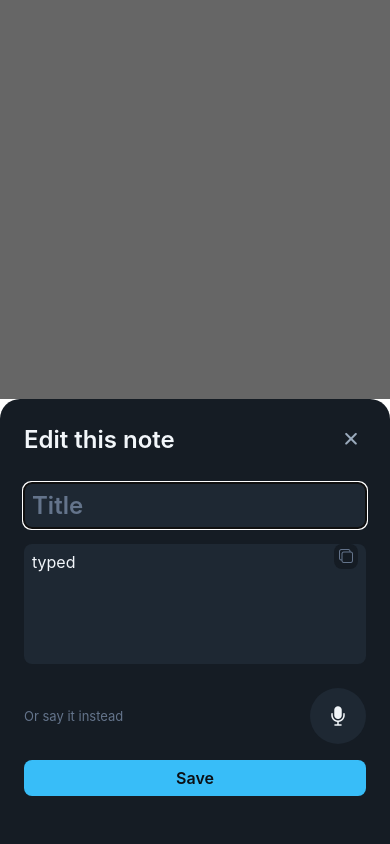
copying a note › stops saying so once the text has changed
Click the button named "Copy this note" at [346, 556], box [334,544,358,569]
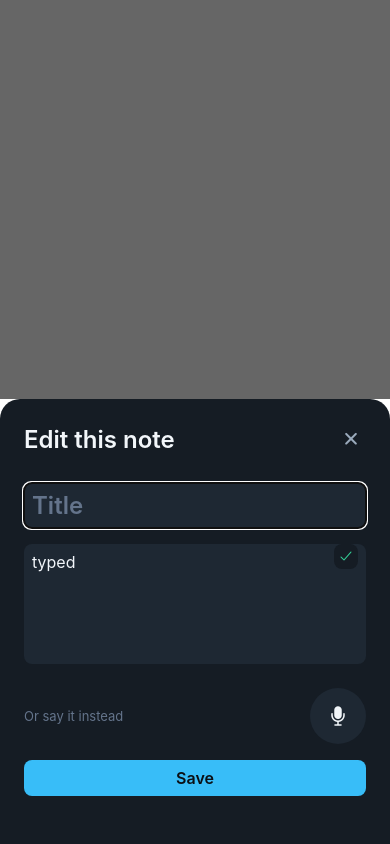
Replace the text in the text box named "Note" with "typed some more" at [195, 604], box [24,544,366,664]
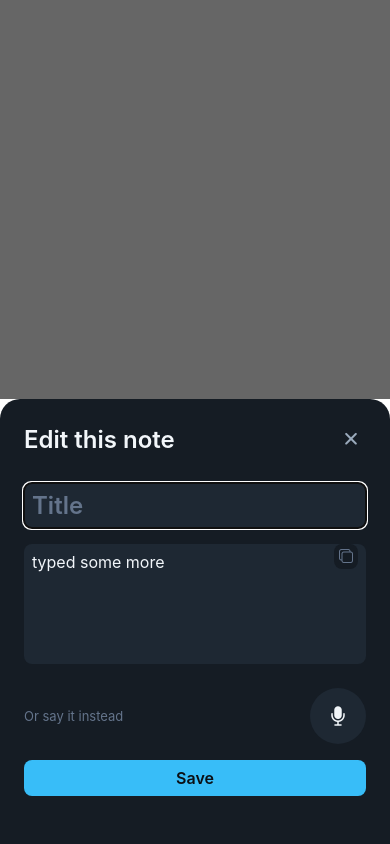
Expected: the button named "Copy this note" is shown, [334,544,358,569]
